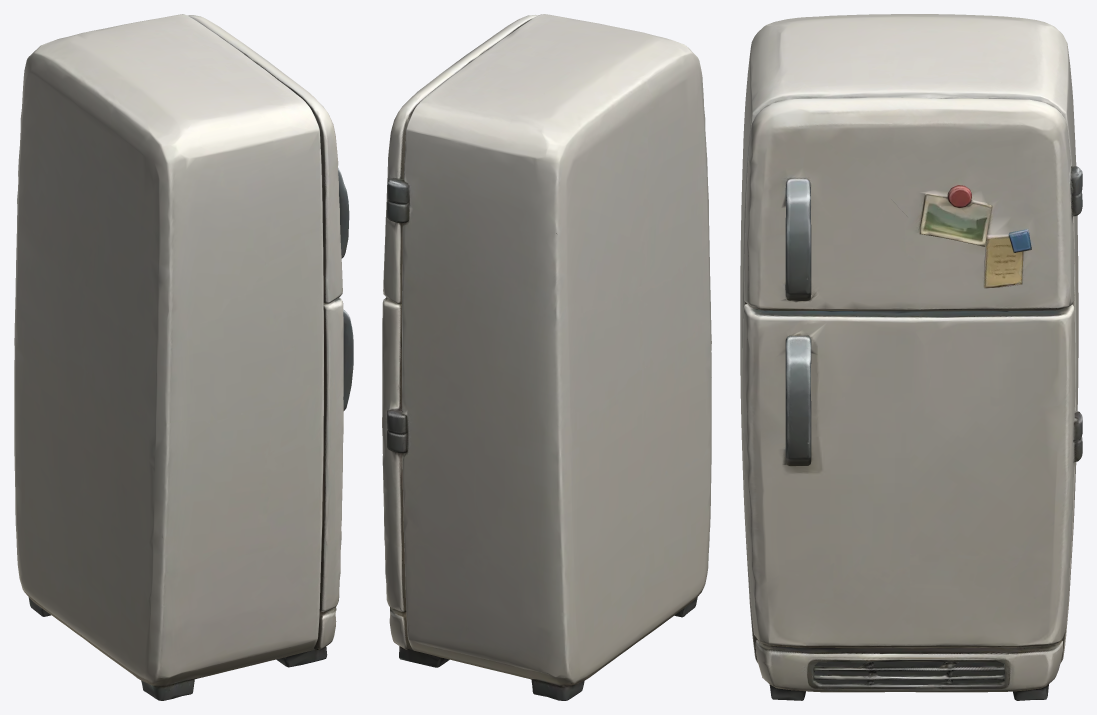
File: heladera.glb
3 renders of one model, left to right at view 1: azimuth 30°, elevation 25°; view 2: azimuth 150°, elevation 25°; view 3: azimuth 270°, elevation 25°, orthographic. The views are drawn at different scales.
Parts seen in each view (by area): view 1: tripo_node_b28b44ce-3398-4433-9178-73d35744f3ee; view 2: tripo_node_b28b44ce-3398-4433-9178-73d35744f3ee; view 3: tripo_node_b28b44ce-3398-4433-9178-73d35744f3ee.
Boxes of the visible parts, x1,y1,x2,y2 form: tripo_node_b28b44ce-3398-4433-9178-73d35744f3ee: [14, 14, 353, 700]; tripo_node_b28b44ce-3398-4433-9178-73d35744f3ee: [382, 14, 711, 700]; tripo_node_b28b44ce-3398-4433-9178-73d35744f3ee: [740, 14, 1082, 700].
Size of the model in its own units: 0.3947 by 1 by 0.5068.
1 material, 1 textured.
